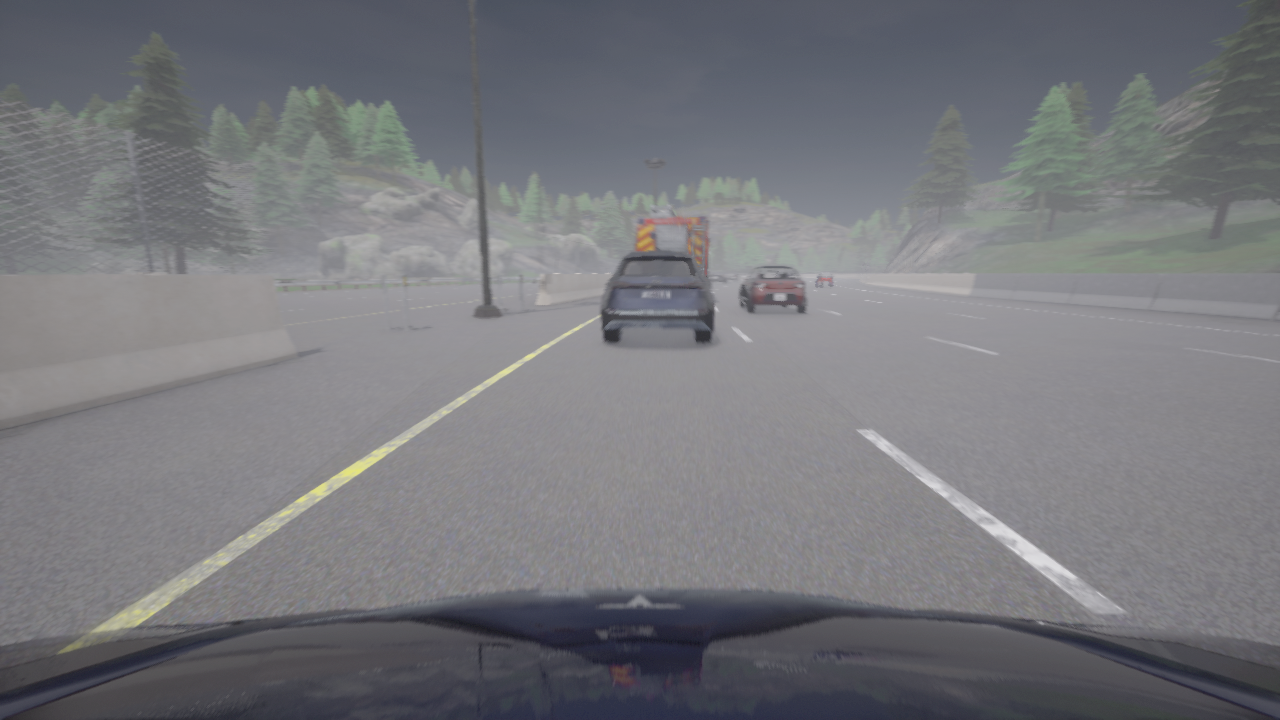cyclist: (0, 588, 1279, 719), (601, 249, 713, 343), (635, 205, 711, 276), (738, 265, 807, 313), (816, 272, 833, 287), (710, 271, 729, 284), (726, 271, 739, 282), (707, 272, 711, 287)
